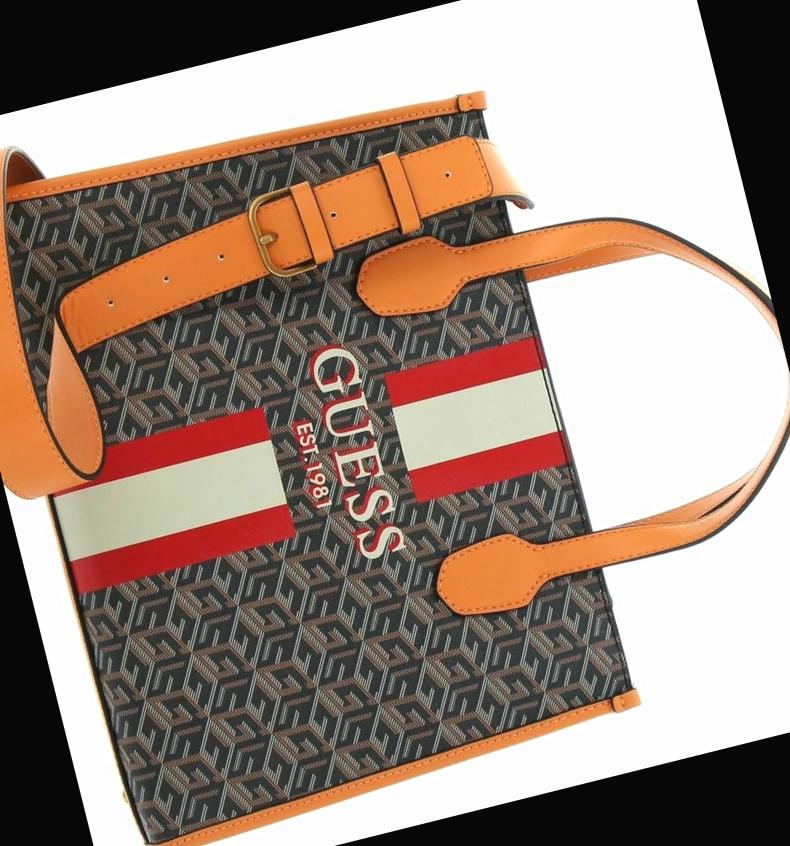GUESS: (304, 338, 406, 563)
